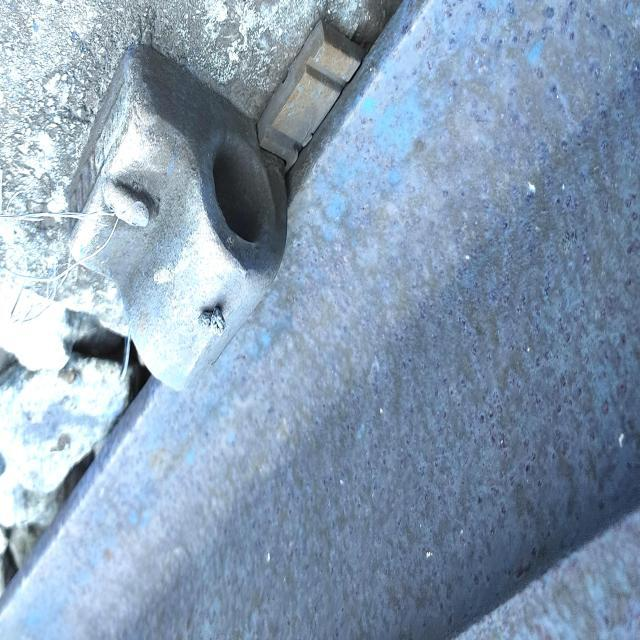Missing Fastener: (38, 15, 325, 429)
